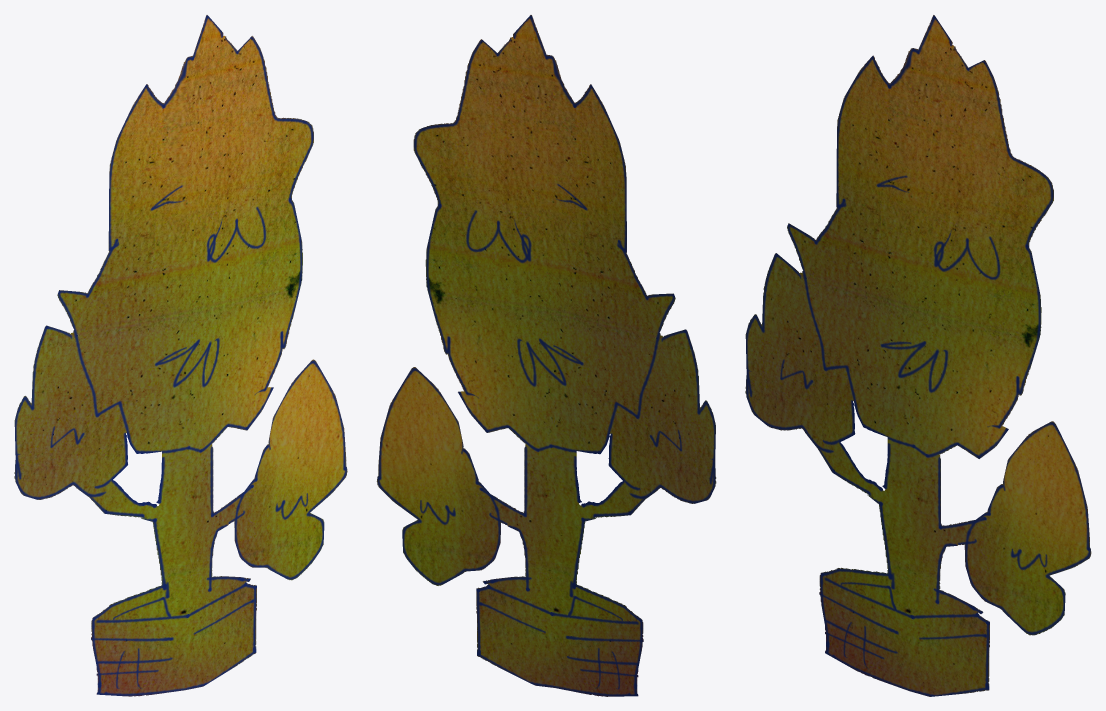
The model's file is 03_plant_04.fbx.
3 renders of one model, left to right at view 1: azimuth 30°, elevation 25°; view 2: azimuth 150°, elevation 25°; view 3: azimuth 330°, elevation 25°, orthographic.
Visible parts, largest first — view 1: 03_plant_04; view 2: 03_plant_04; view 3: 03_plant_04.
Boxes of the visible parts, x1,y1,x2,y2 form: 03_plant_04: (14, 15, 347, 696); 03_plant_04: (376, 15, 716, 696); 03_plant_04: (745, 15, 1091, 696).
Size of the model in its own units: 84.76 by 161 by 3.52.
Materials: 1 (1 with a texture image).
